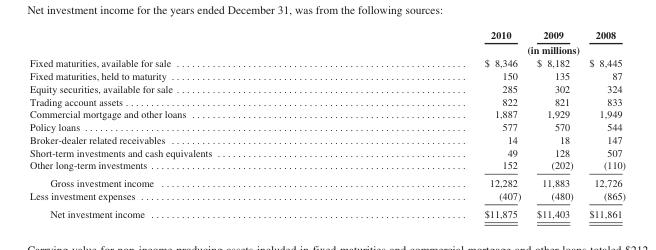table: (29, 28, 625, 219)
table column: (29, 28, 347, 219), (347, 28, 528, 219), (528, 28, 580, 219), (580, 28, 625, 219)
table column header: (29, 28, 625, 56)
table row: (29, 173, 625, 189), (29, 158, 625, 173), (29, 189, 625, 204), (29, 204, 625, 219), (29, 28, 625, 42), (29, 42, 625, 56), (29, 56, 625, 69), (29, 81, 625, 94), (29, 94, 625, 107), (29, 107, 625, 120), (29, 132, 625, 145), (29, 145, 625, 158), (29, 69, 625, 81), (29, 120, 625, 132)
table spanning cell: (347, 42, 625, 56)
